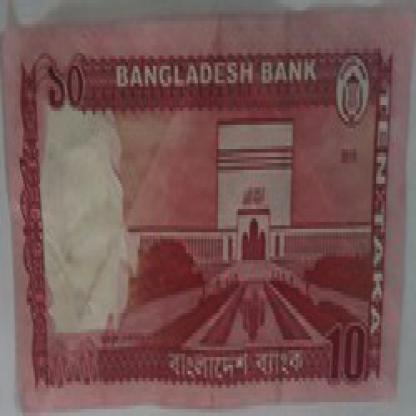Ten Taka: (43, 52, 93, 135), (321, 308, 366, 392)
